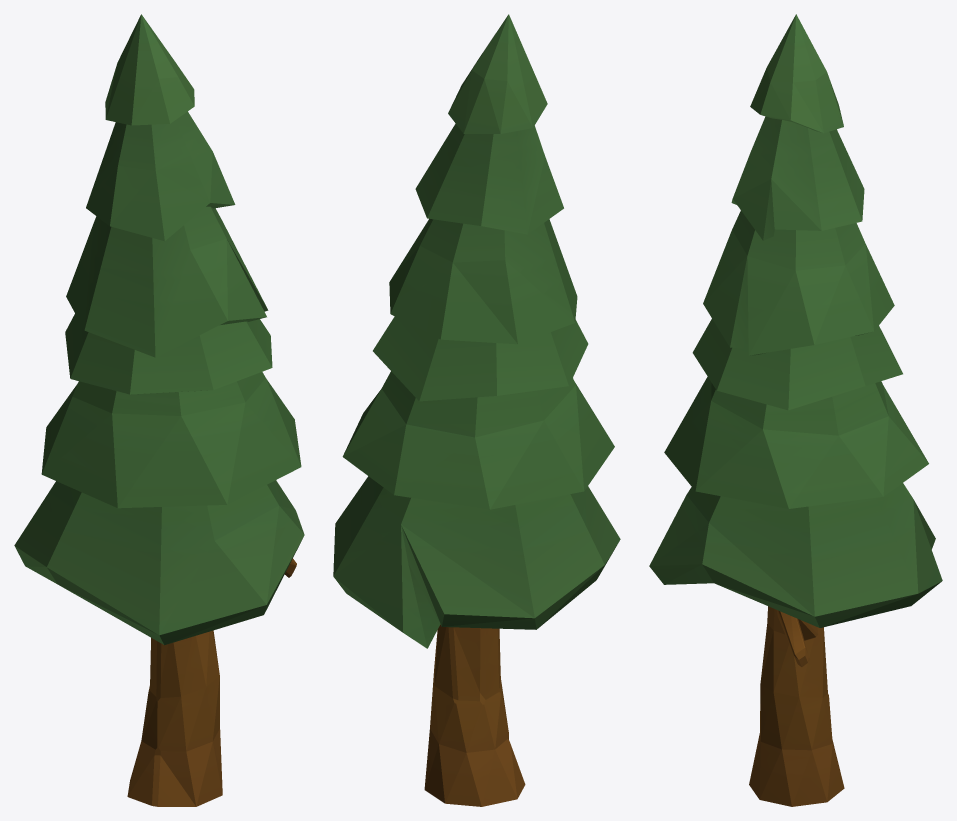
Rendered from tree_fir_slim.glb.
3 renders of one model, left to right at view 1: azimuth 30°, elevation 25°; view 2: azimuth 150°, elevation 25°; view 3: azimuth 270°, elevation 25°, orthographic. The views are drawn at different scales.
Visible parts, largest first — view 1: tree_fir_slim; view 2: tree_fir_slim; view 3: tree_fir_slim.
Part boxes in pixels (x1,y1,x2,y2): tree_fir_slim: (14, 14, 304, 806); tree_fir_slim: (333, 14, 620, 806); tree_fir_slim: (649, 14, 942, 806).
Bounding box in the file's own units: 1.32 × 3.8 × 1.34.
Materials: 1 (1 with a texture image).
